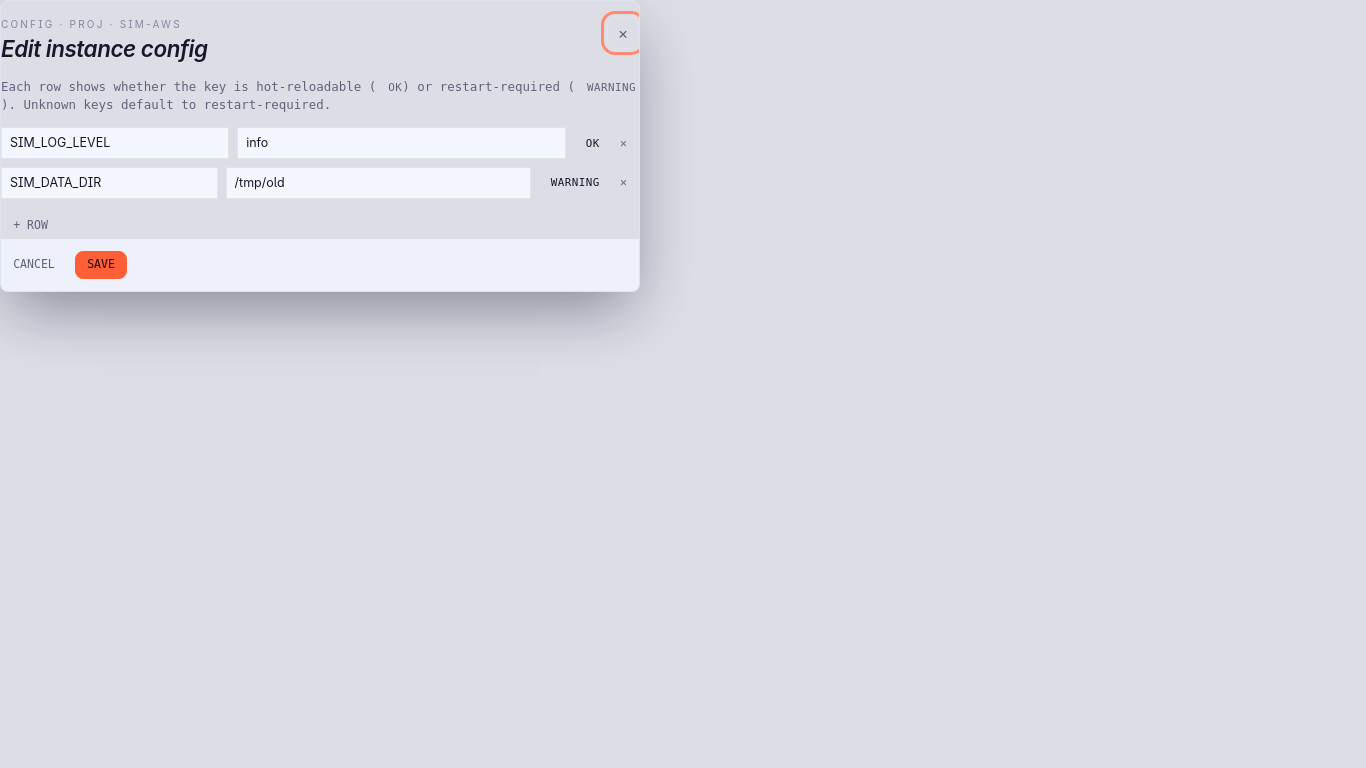
Test: ConfigEditModal › save → only hot change → UI offers Reload only
This screenshot has width=1366, height=768.
Replace the text in the 2nd field showing "info" with "debug" at [401, 143], box top-left (237, 127), bottom-right (566, 159)
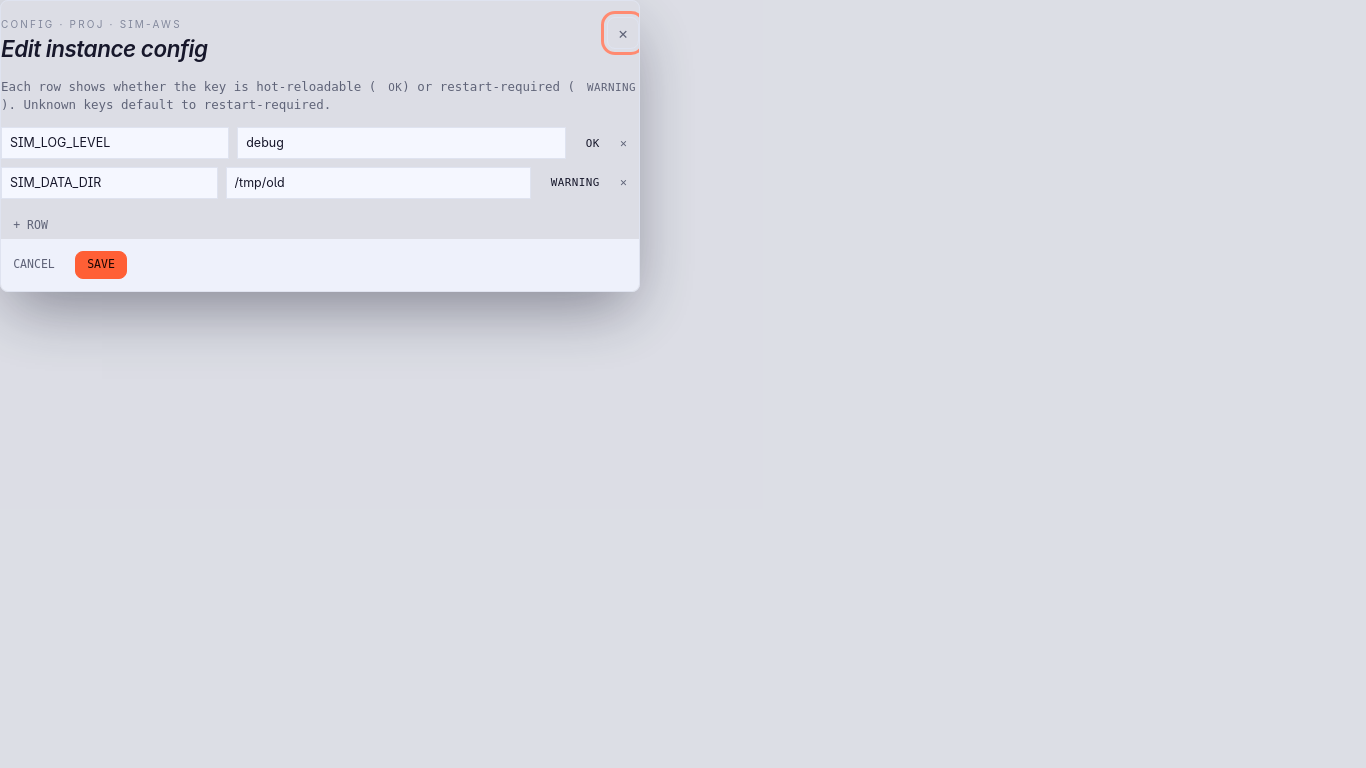
Click the button "Save".
click(101, 265)  # box top-left (75, 251), bottom-right (127, 279)
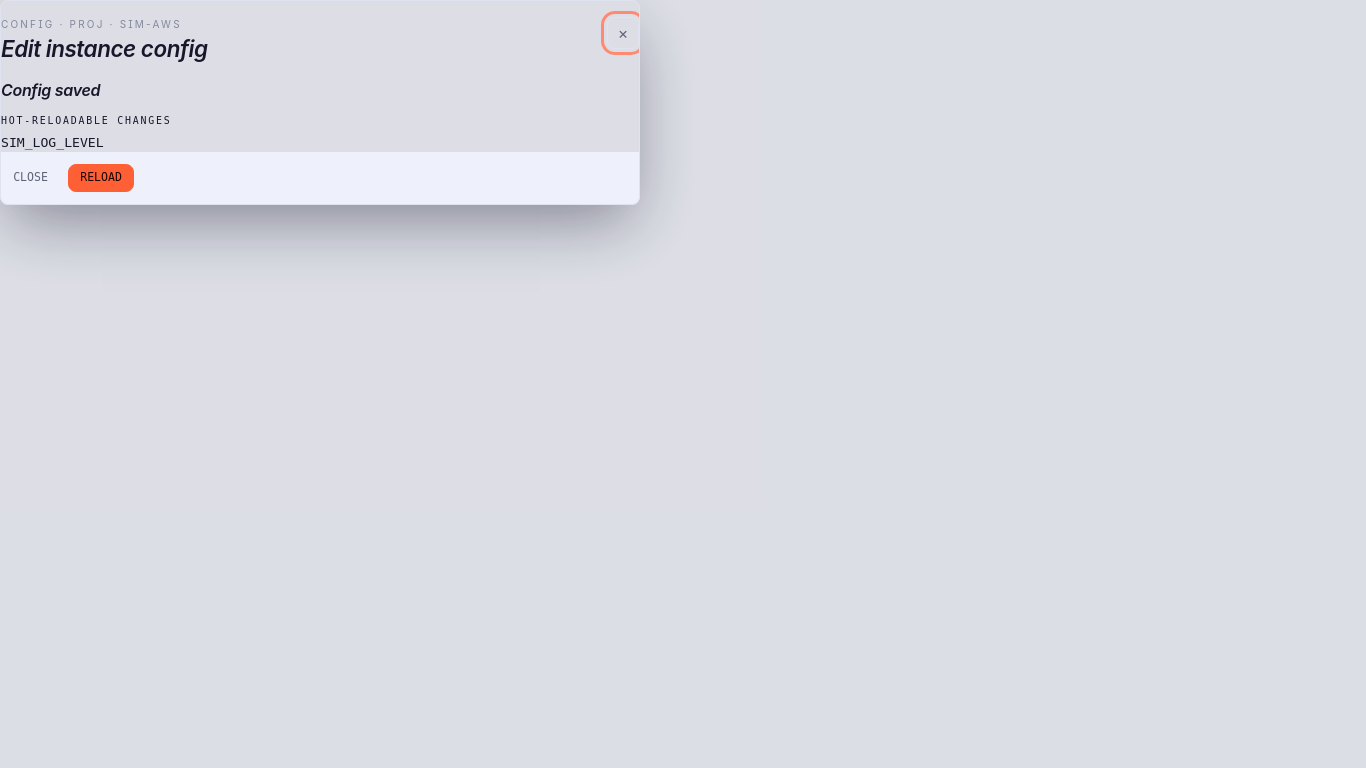
Expected: the button "restart" is not shown
Result: the text "Config saved" is shown at top-left (1, 80), bottom-right (100, 100)
Result: the button "Reload" is shown at top-left (68, 164), bottom-right (134, 192)
